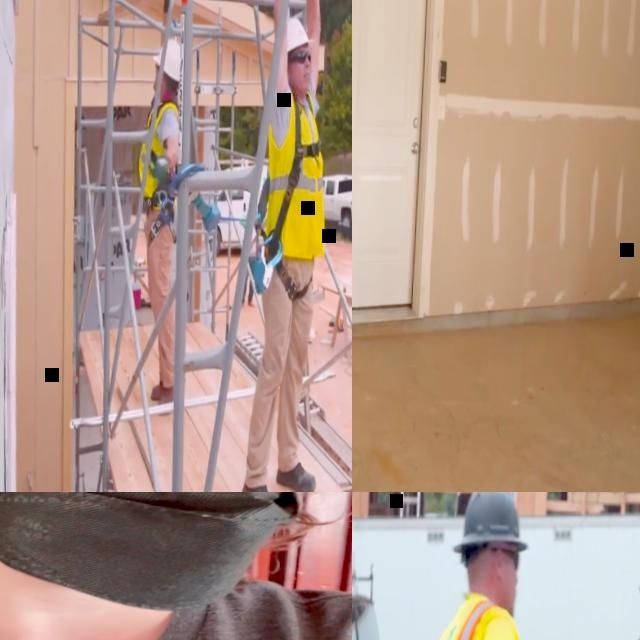Hardhat: (452, 492, 530, 555), (151, 37, 181, 80), (286, 15, 313, 52)
Mask: (0, 492, 303, 618)
NO-Mask: (488, 571, 518, 616), (292, 65, 312, 93), (152, 72, 157, 89)
NO-Safety Vest: (0, 571, 352, 640)
Person: (0, 492, 352, 640), (240, 0, 335, 492), (131, 0, 190, 416), (392, 492, 538, 640)
Safety Vest: (264, 91, 331, 261), (137, 98, 179, 209)
vehicle: (539, 519, 640, 640), (212, 160, 269, 255), (320, 172, 352, 230)
